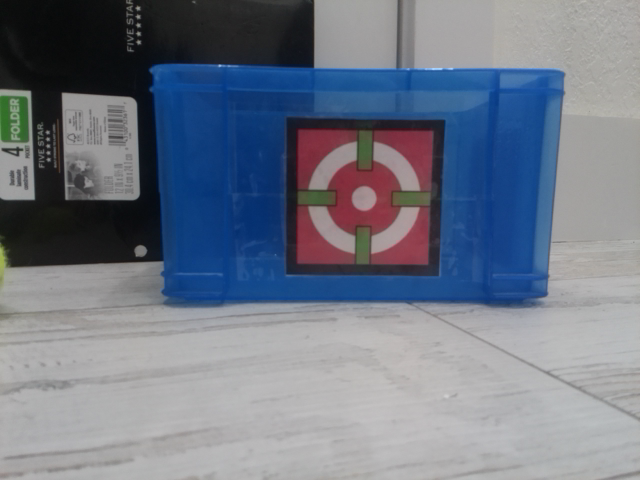drop-bin: (284, 117, 446, 278)
